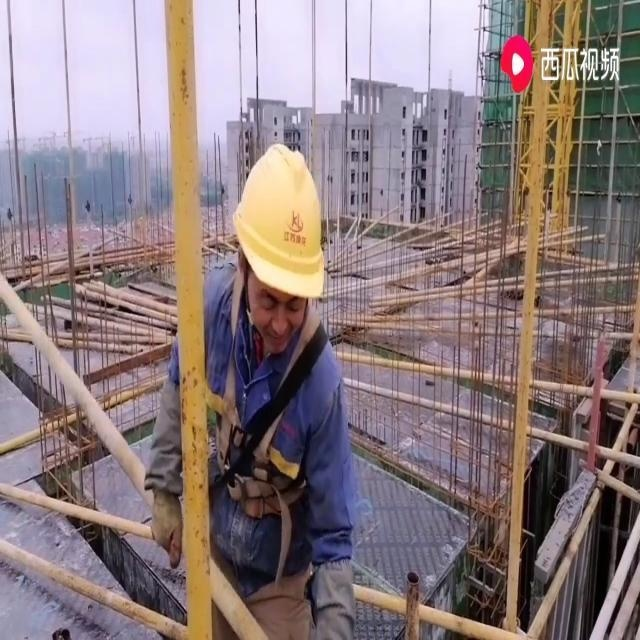Arnes_seguridad: (205, 263, 333, 542)
